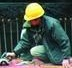boots: (0, 51, 11, 65), (64, 65, 72, 68)
hard-hat: (23, 1, 45, 20)
